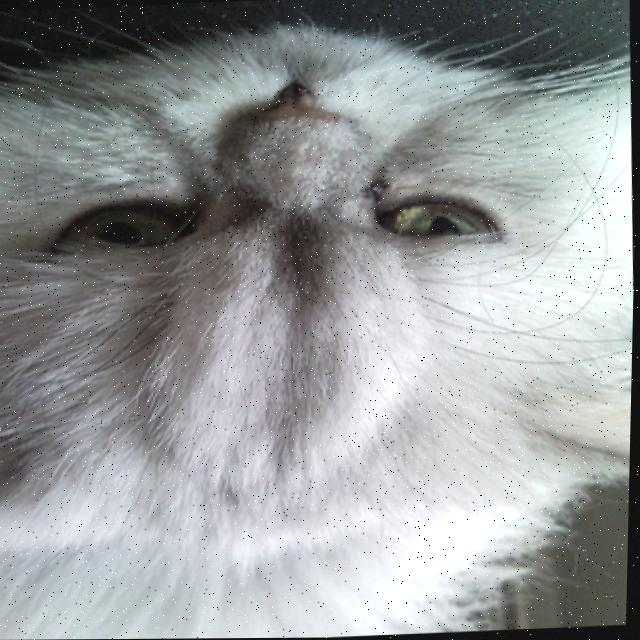Persian: (0, 5, 640, 640)
